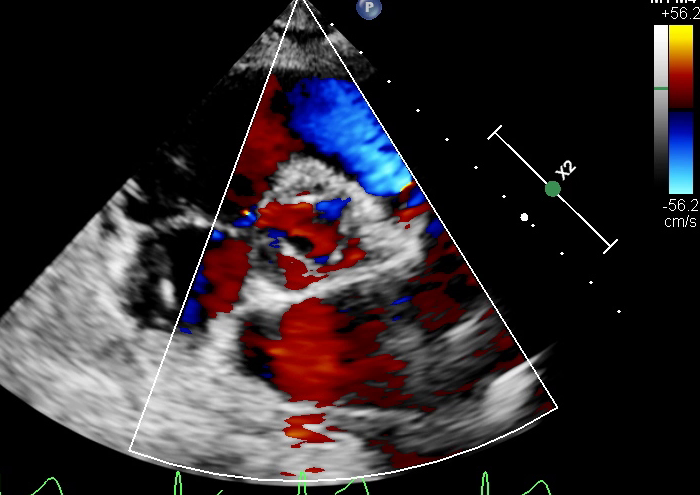TR: (222, 205, 290, 287)
